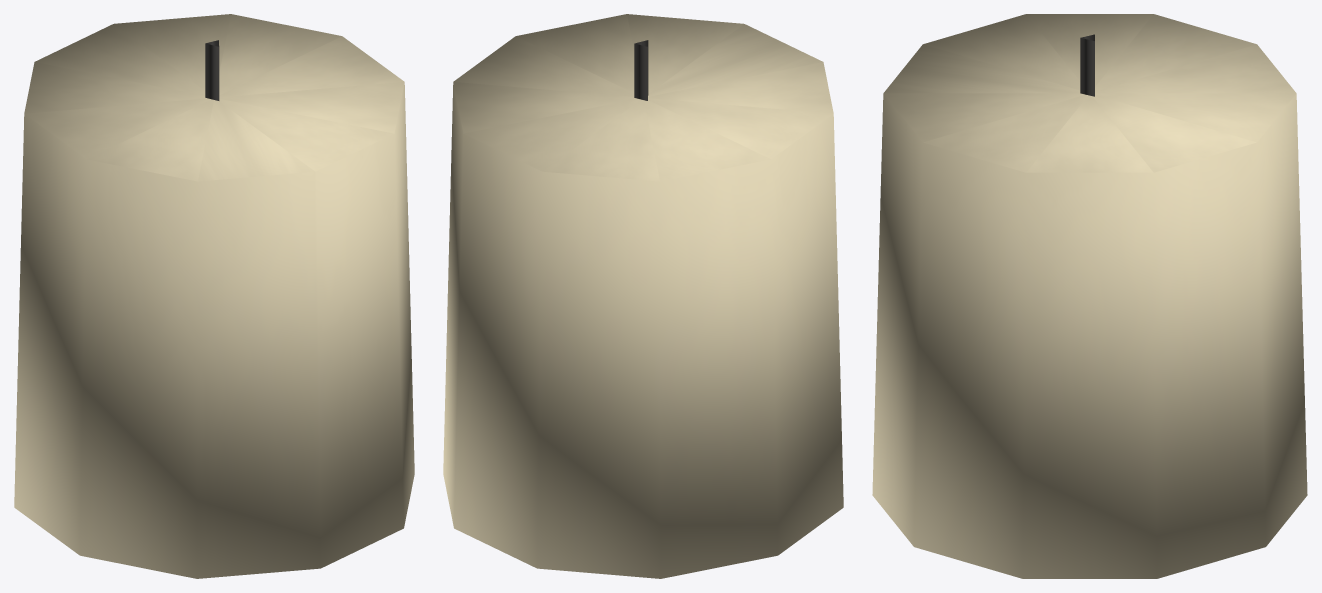
Rendered from Candle_1.gltf.
3 renders of one model, left to right at view 1: azimuth 30°, elevation 25°; view 2: azimuth 150°, elevation 25°; view 3: azimuth 270°, elevation 25°, orthographic. The views are drawn at different scales.
Parts seen in each view (by area): view 1: Candle_1; view 2: Candle_1; view 3: Candle_1.
Boxes of the visible parts, x1=… form: Candle_1: x1=14, y1=14, x2=414, y2=578; Candle_1: x1=443, y1=14, x2=843, y2=578; Candle_1: x1=872, y1=14, x2=1307, y2=578.
Bounding box in the file's own units: 0.1 × 0.13 × 0.11.
Materials: 2 (2 with a texture image).
